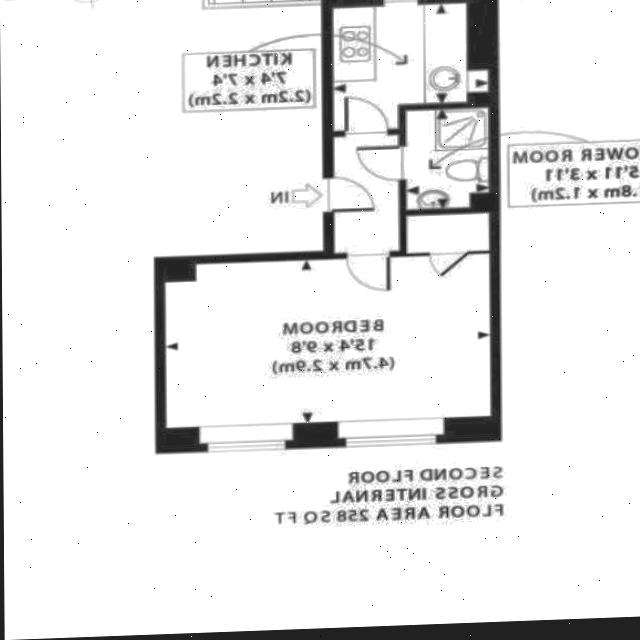room: (159, 254, 495, 426), (331, 4, 468, 131), (406, 107, 489, 210), (334, 135, 400, 252), (407, 213, 490, 252)
